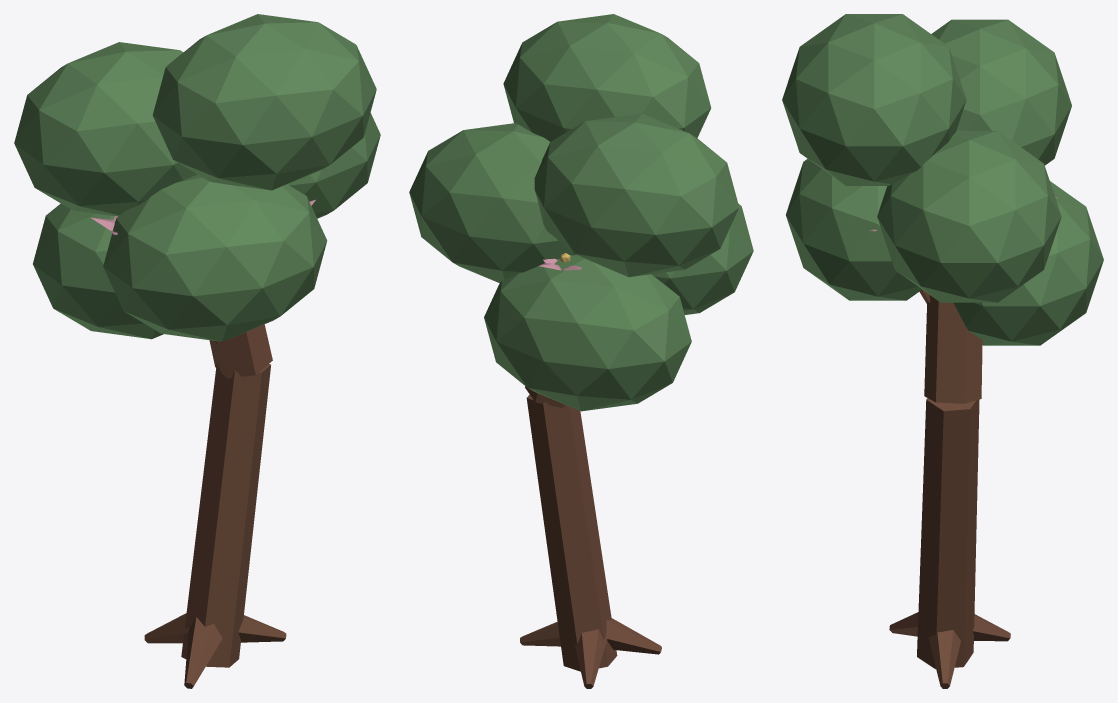
The model's file is map-boundaries-v5__village_06.glb.
3 renders of one model, left to right at view 1: azimuth 30°, elevation 25°; view 2: azimuth 150°, elevation 25°; view 3: azimuth 270°, elevation 25°, orthographic. The views are drawn at different scales.
Parts seen in each view (by area): view 1: village_06; view 2: village_06; view 3: village_06.
Boxes of the visible parts, <box> form: village_06: <box>14,14,380,688</box>; village_06: <box>409,14,753,688</box>; village_06: <box>782,14,1103,688</box>.
Bounding box in the file's own units: 1.94 × 3.69 × 1.67.
